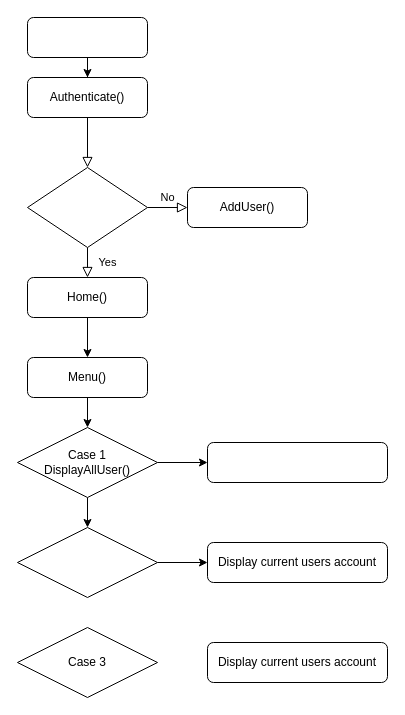
The diagram is 405 pixels wide and 715 high, and some of its shapes have lost their labels. Each missing label, with the box of its shape:
Case 2 DisplayOwn(): (16, 526, 158, 598)
Display all users and accounts: (206, 442, 388, 482)
Start: (26, 16, 148, 58)
User Exists in XML: (26, 166, 148, 248)
